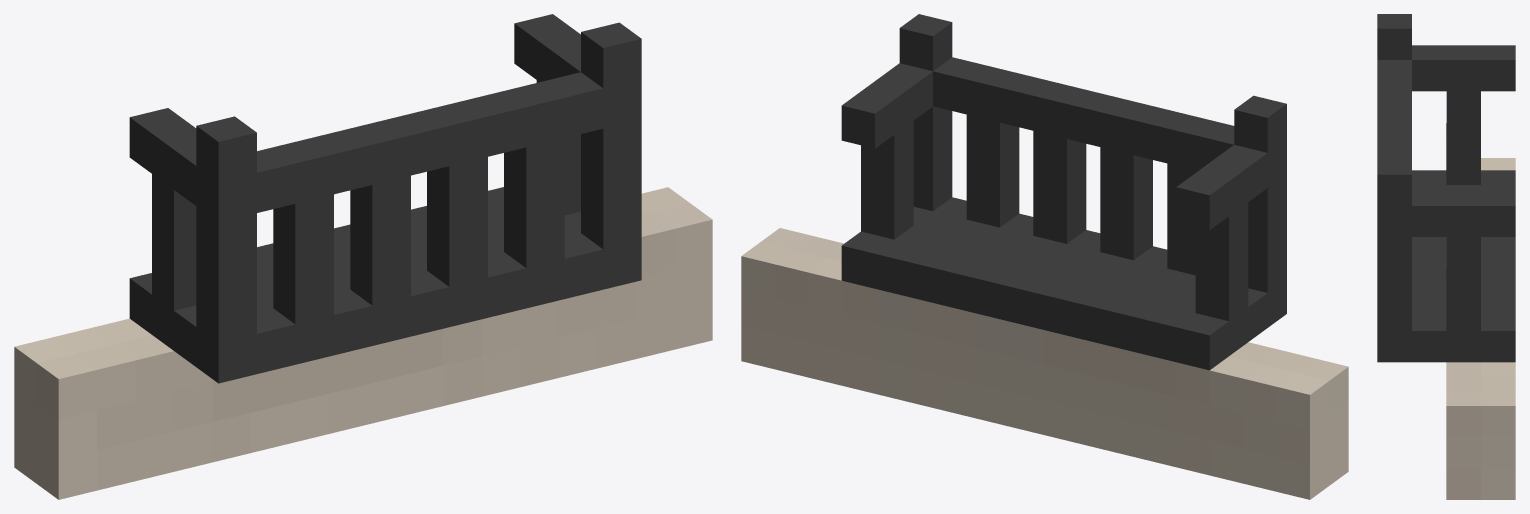
File: palazzo16.glb
3 views of the same model, side by side, from view 1: azimuth 30°, elevation 25°; view 2: azimuth 150°, elevation 25°; view 3: azimuth 270°, elevation 25° (orthographic). The views are drawn at different scales.
Visible parts, largest first — view 1: Ringhiera.Marcapiano; view 2: Ringhiera.Marcapiano; view 3: Ringhiera.Marcapiano.
Boxes of the visible parts, x1,y1,x2,y2 form: Ringhiera.Marcapiano: (14,14,712,499); Ringhiera.Marcapiano: (741,14,1348,499); Ringhiera.Marcapiano: (1377,14,1515,499).
Bounding box in the file's own units: 17 × 9 × 4.
Materials: 2 (2 with a texture image).
